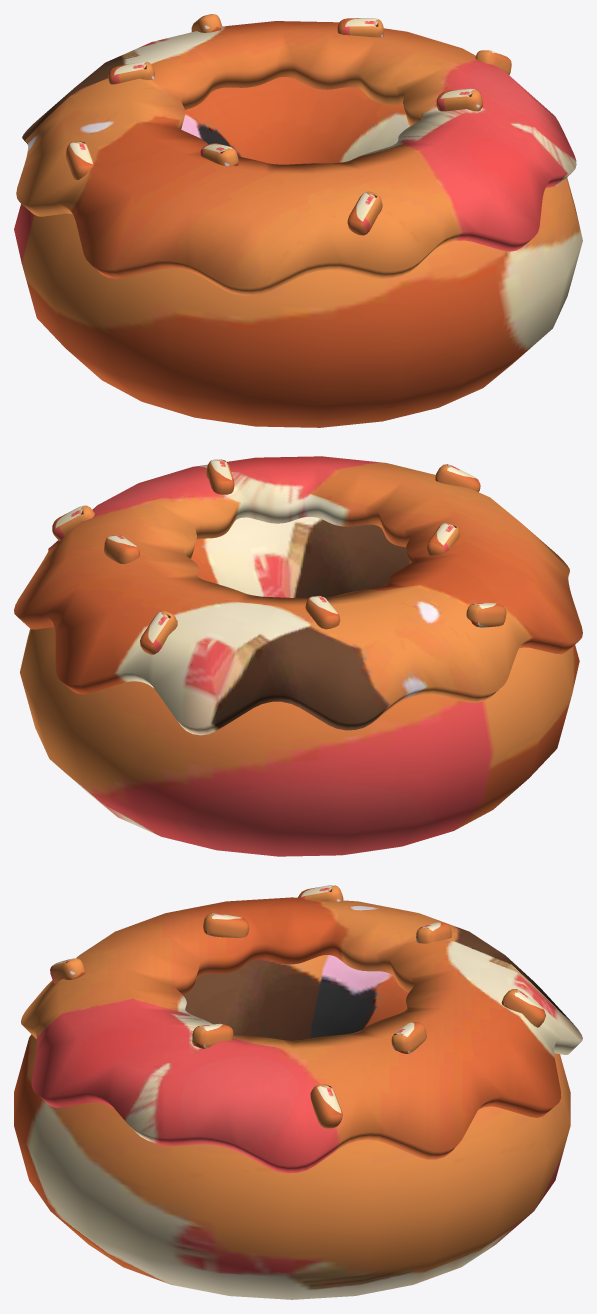
3 views of the same model, one above another, from view 1: azimuth 30°, elevation 25°; view 2: azimuth 150°, elevation 25°; view 3: azimuth 270°, elevation 25° (orthographic).
Visible parts, largest first — view 1: Torus_003, _7, Cube_027, Cube_031, Cube_025, Cube_022, Cube_024, Cube_026; view 2: Torus_003, _7, Cube_023, Cube_025, Cube_024, Cube_031, Cube_022, Cube_021, Cube_027, Cube_026; view 3: Torus_003, _7, Cube_021, Cube_026, Cube_023, Cube_022, Cube_031, Cube_027, Cube_024, Cube_025.
Part boxes in pixels (bbox=[...]): Torus_003: bbox=[16, 21, 576, 295]; _7: bbox=[14, 77, 582, 427]; Cube_027: bbox=[347, 191, 382, 235]; Cube_031: bbox=[436, 88, 482, 111]; Cube_025: bbox=[66, 141, 93, 179]; Cube_022: bbox=[337, 18, 383, 37]; Cube_024: bbox=[108, 61, 154, 84]; Cube_026: bbox=[200, 143, 238, 166]; Torus_003: bbox=[14, 456, 582, 735]; _7: bbox=[20, 517, 579, 856]; Cube_023: bbox=[140, 611, 177, 654]; Cube_025: bbox=[466, 603, 506, 627]; Cube_024: bbox=[305, 595, 340, 629]; Cube_031: bbox=[206, 459, 234, 494]; Cube_022: bbox=[104, 535, 139, 563]; Cube_021: bbox=[52, 505, 94, 540]; Cube_027: bbox=[435, 464, 480, 492]; Cube_026: bbox=[426, 523, 459, 555]; Torus_003: bbox=[21, 897, 582, 1173]; _7: bbox=[14, 955, 570, 1299]; Cube_021: bbox=[310, 1084, 342, 1128]; Cube_026: bbox=[203, 913, 249, 937]; Cube_023: bbox=[501, 989, 545, 1027]; Cube_022: bbox=[391, 1022, 426, 1053]; Cube_031: bbox=[192, 1023, 233, 1048]; Cube_027: bbox=[50, 958, 85, 983]; Cube_024: bbox=[416, 922, 451, 943]; Cube_025: bbox=[298, 885, 343, 901].
Bounding box in the file's own units: 0.5515 × 0.2744 × 0.5552.
3 materials, 3 textured.
